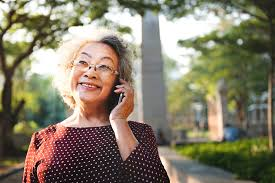asian_female: (45, 22, 142, 125)
